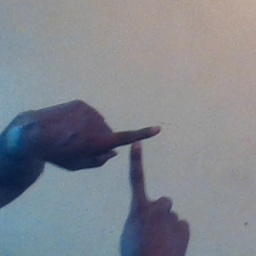T: (88, 105, 185, 228)
